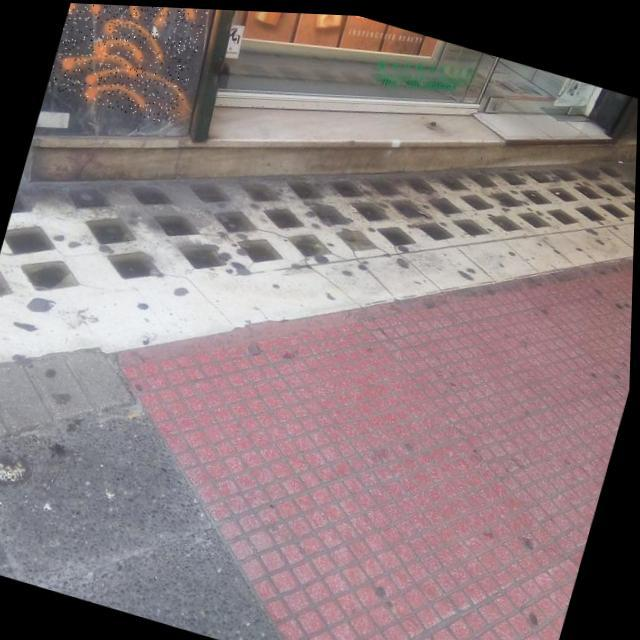-: (45, 2, 216, 126)
